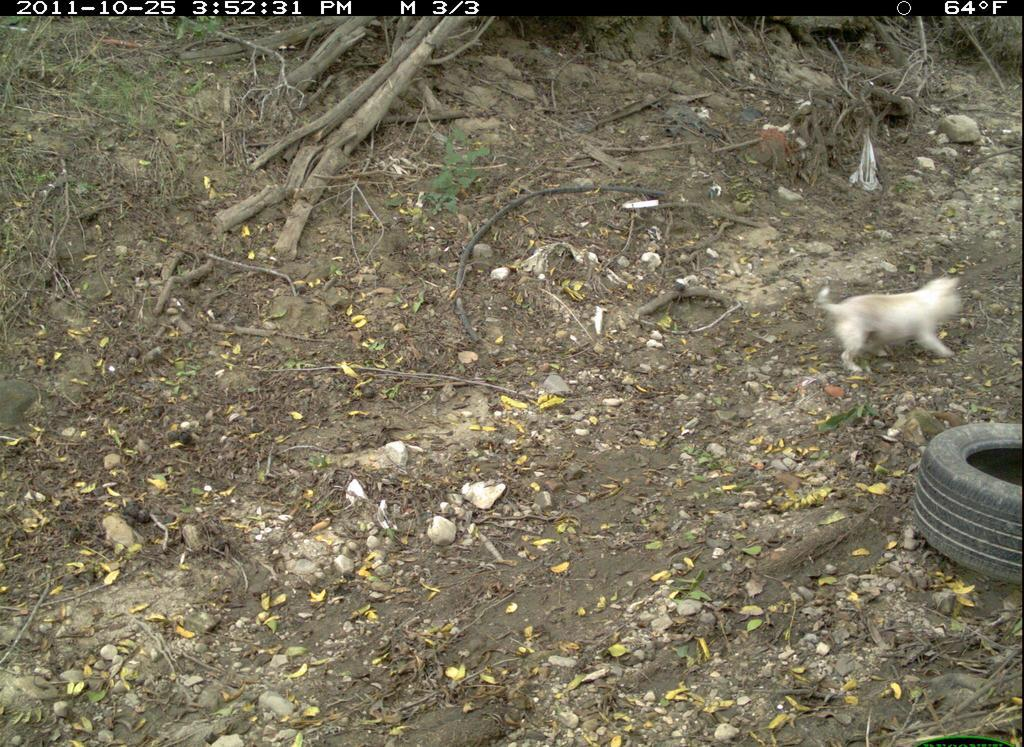dog: (815, 274, 972, 376)
